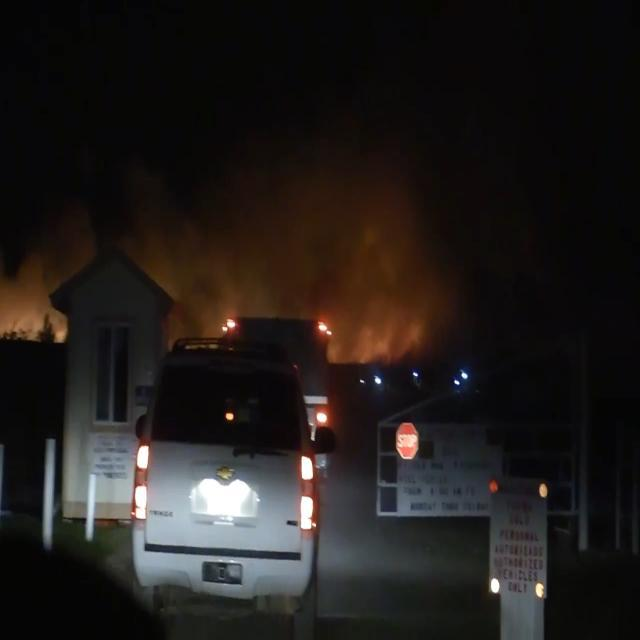Fire: (2, 266, 66, 346)
